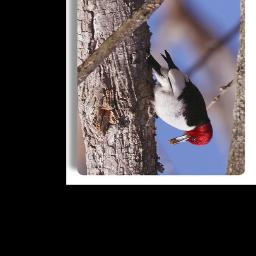Woodpecker: (144, 50, 213, 146)
